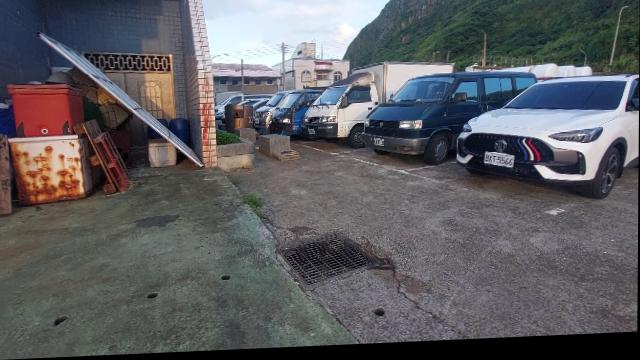pollute: (8, 66, 134, 204), (0, 134, 13, 217), (146, 138, 178, 168), (157, 120, 190, 148), (0, 103, 16, 138)
